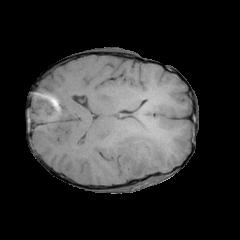glioma: (109, 111, 168, 177)
